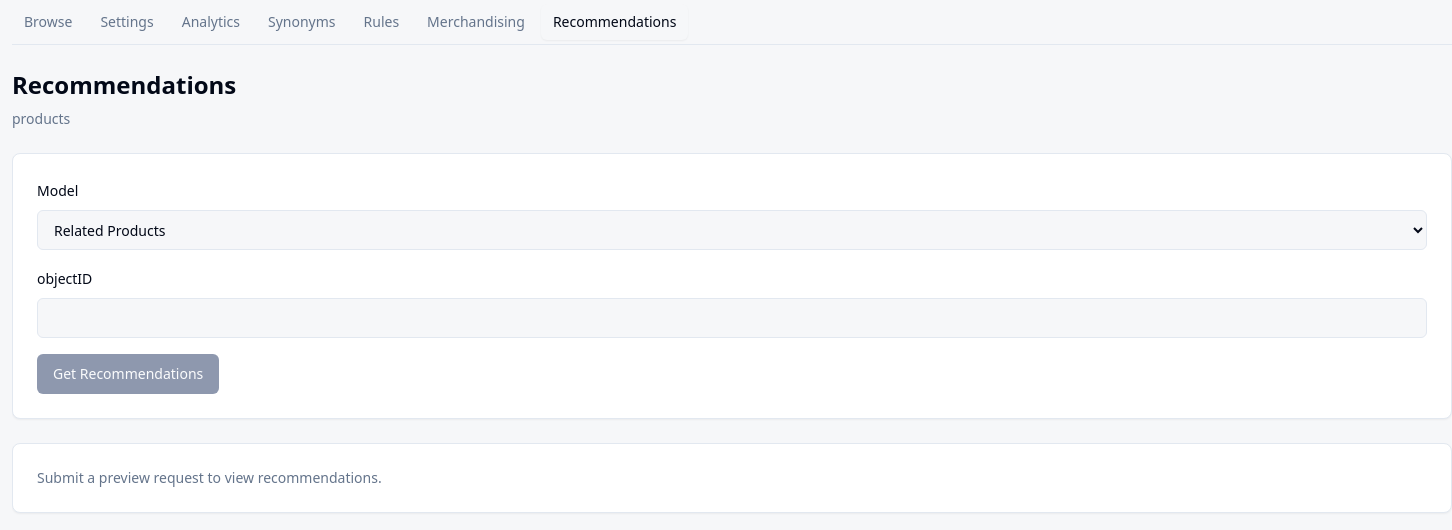
it: Recommendations page › shows empty-state messaging when preview returns no hits
Select "Trending Items" in the dropdown with test id "recommendations-model-select" at coordinates (732, 230), box [37, 210, 1427, 250]
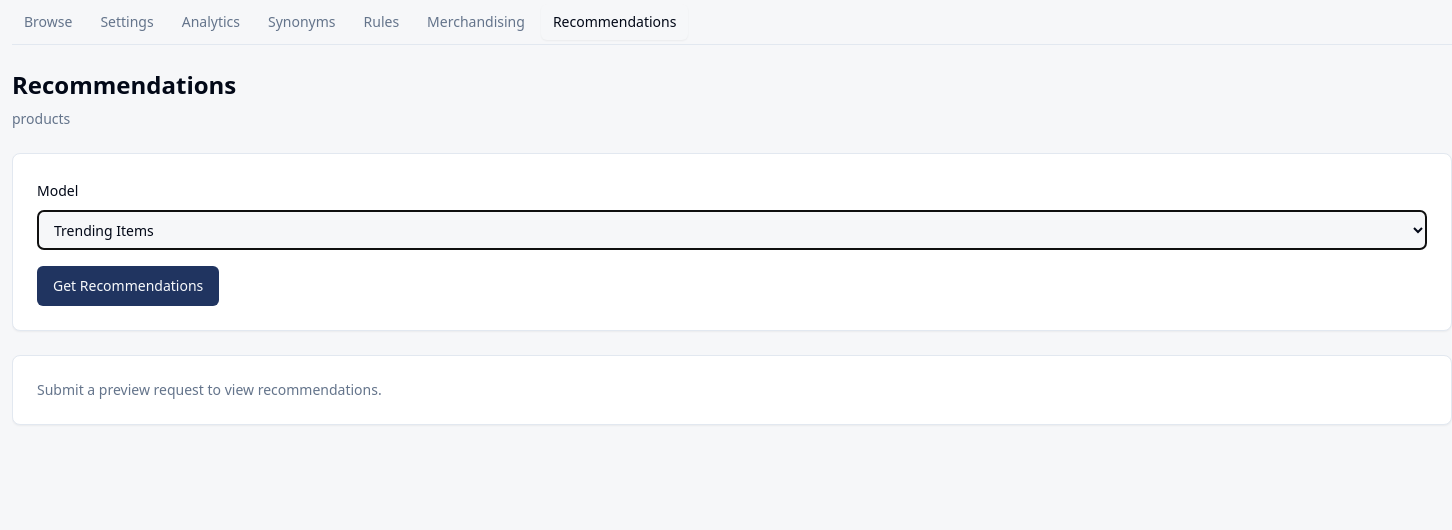
Click the button with test id "get-recommendations-btn".
click(128, 286)  # box [37, 266, 219, 306]
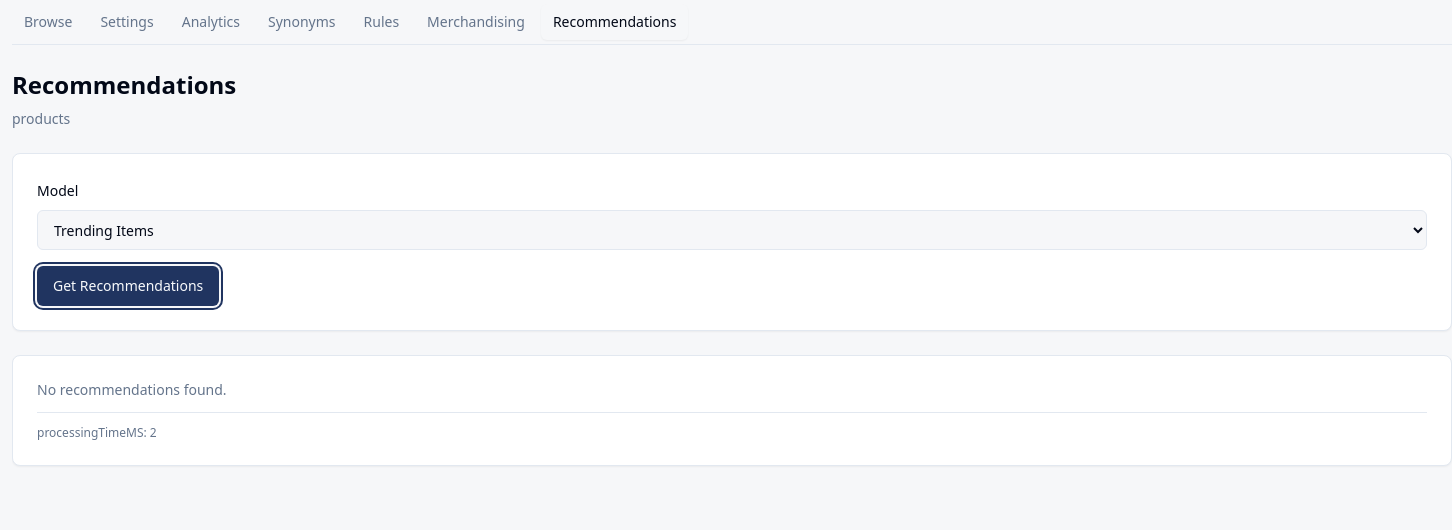
Expected: the text "No recommendations found." is shown, [37, 380, 227, 399]
